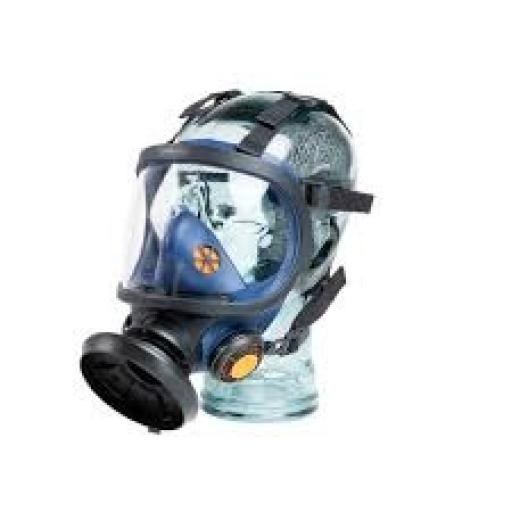mask: (71, 130, 322, 437)
